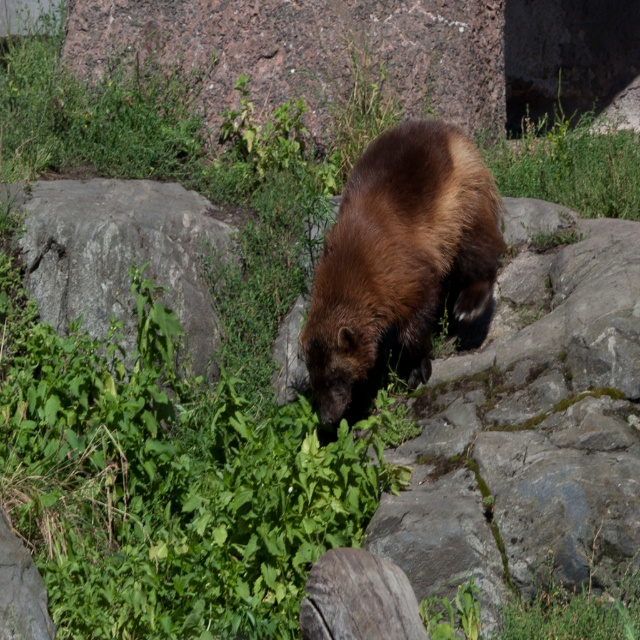Brown bear: (299, 117, 512, 425)
